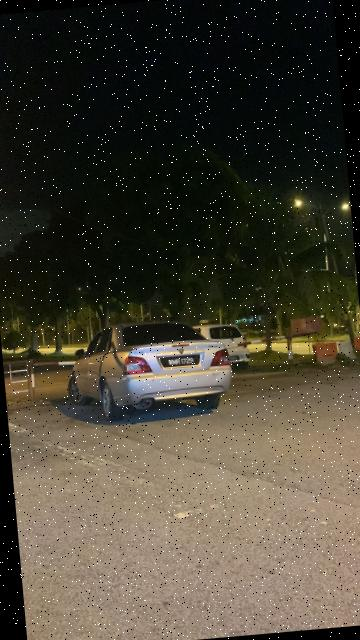License_Plate: (161, 353, 203, 373)
car: (60, 312, 237, 427)
